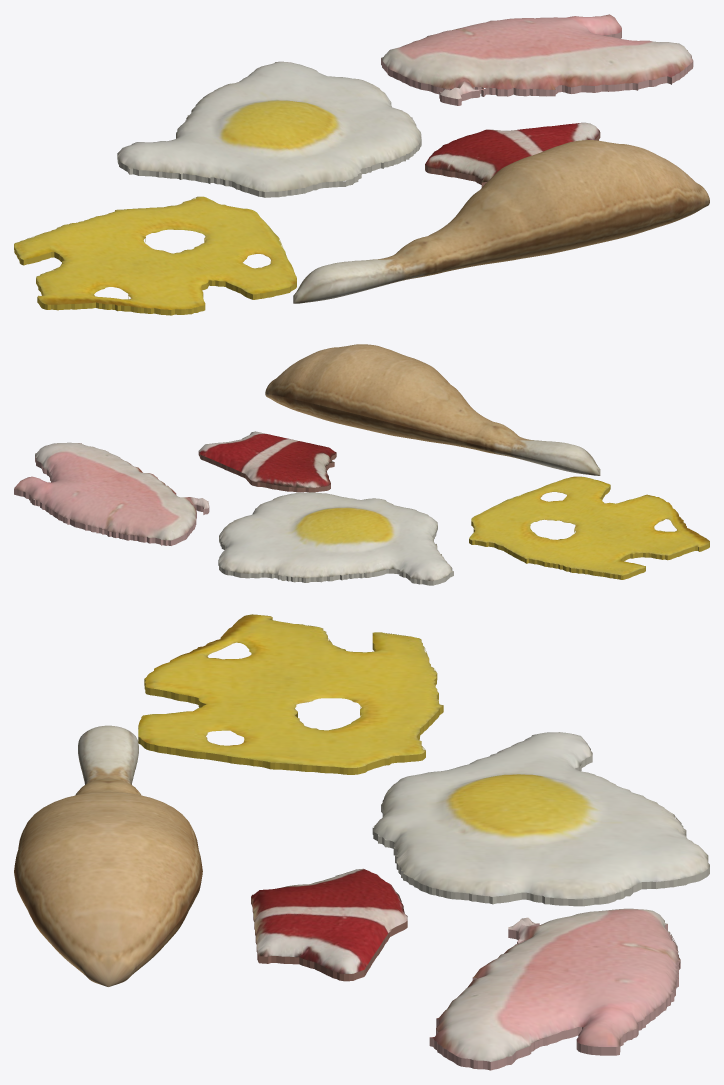
The model's file is alimentos_12_01_web.glb.
3 views of the same model, one above another, from view 1: azimuth 30°, elevation 25°; view 2: azimuth 150°, elevation 25°; view 3: azimuth 270°, elevation 25° (orthographic). The views are drawn at different scales.
Visible parts, largest first — view 1: Feltro_Coxa, Feltro_Ovo, Feltro_Queijo, Feltro_Presunto, Feltro_Bife; view 2: Feltro_Coxa, Feltro_Ovo, Feltro_Queijo, Feltro_Presunto, Feltro_Bife; view 3: Feltro_Ovo, Feltro_Queijo, Feltro_Coxa, Feltro_Presunto, Feltro_Bife.
Part boxes in pixels (box(x1,y1,x2,y2)): Feltro_Coxa: box(293, 140, 709, 303); Feltro_Ovo: box(117, 61, 421, 197); Feltro_Queijo: box(14, 196, 296, 315); Feltro_Presunto: box(381, 14, 693, 105); Feltro_Bife: box(425, 122, 600, 187); Feltro_Coxa: box(265, 344, 600, 475); Feltro_Ovo: box(218, 492, 453, 585); Feltro_Queijo: box(469, 476, 709, 579); Feltro_Presunto: box(14, 442, 209, 545); Feltro_Bife: box(198, 431, 336, 492); Feltro_Ovo: box(372, 732, 709, 906); Feltro_Queijo: box(138, 614, 443, 774); Feltro_Coxa: box(14, 725, 202, 986); Feltro_Presunto: box(429, 908, 680, 1070); Feltro_Bife: box(251, 868, 407, 981).
Bounding box in the file's own units: 0.3377 × 0.0346 × 0.2211.
Materials: 9 (5 with a texture image).
